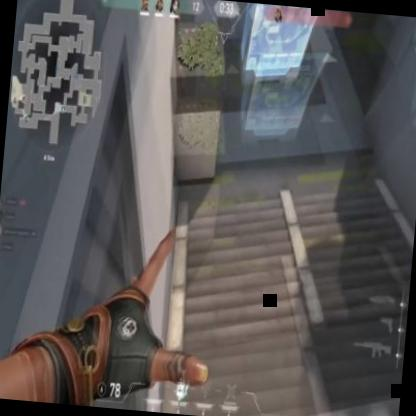enemy: (172, 64, 188, 101)
enemy_head: (178, 65, 183, 76)
